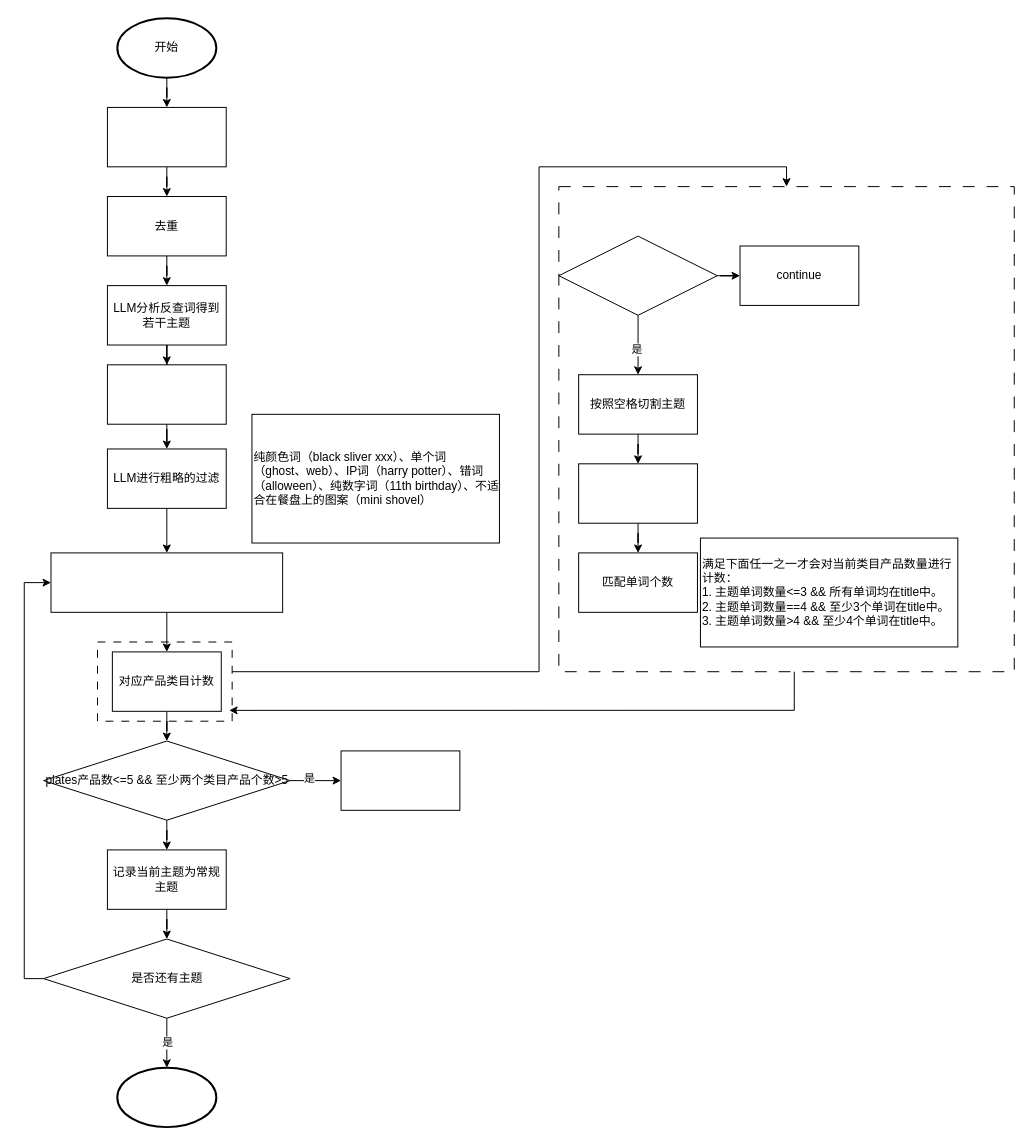
Some shapes in this 1032 by 1144 pixel diagram are drawn without their labels. Here are the shapes that lost their labels. From the top down, the box of each, then its label:
(106, 106, 226, 167): 若干反查词
(558, 235, 717, 315): 当前产品title中是否含有产品类型
(106, 364, 226, 424): 主题去重
(578, 463, 697, 523): 忽略主题中介词、party后缀
(50, 552, 283, 612): 主题+plates/backdrop/decoration/flage/door cover分别在亚马逊搜索结果第一页进行爬虫
(340, 750, 460, 810): 记录当前主题为长尾主题
(116, 1066, 217, 1128): 结束
